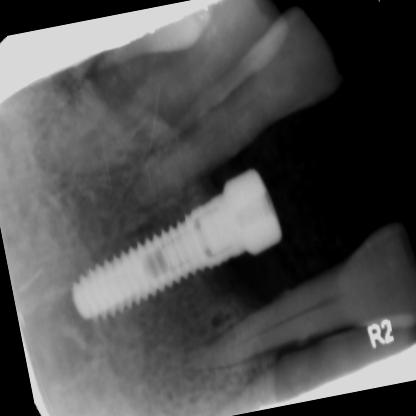Bego: (66, 158, 283, 335)
